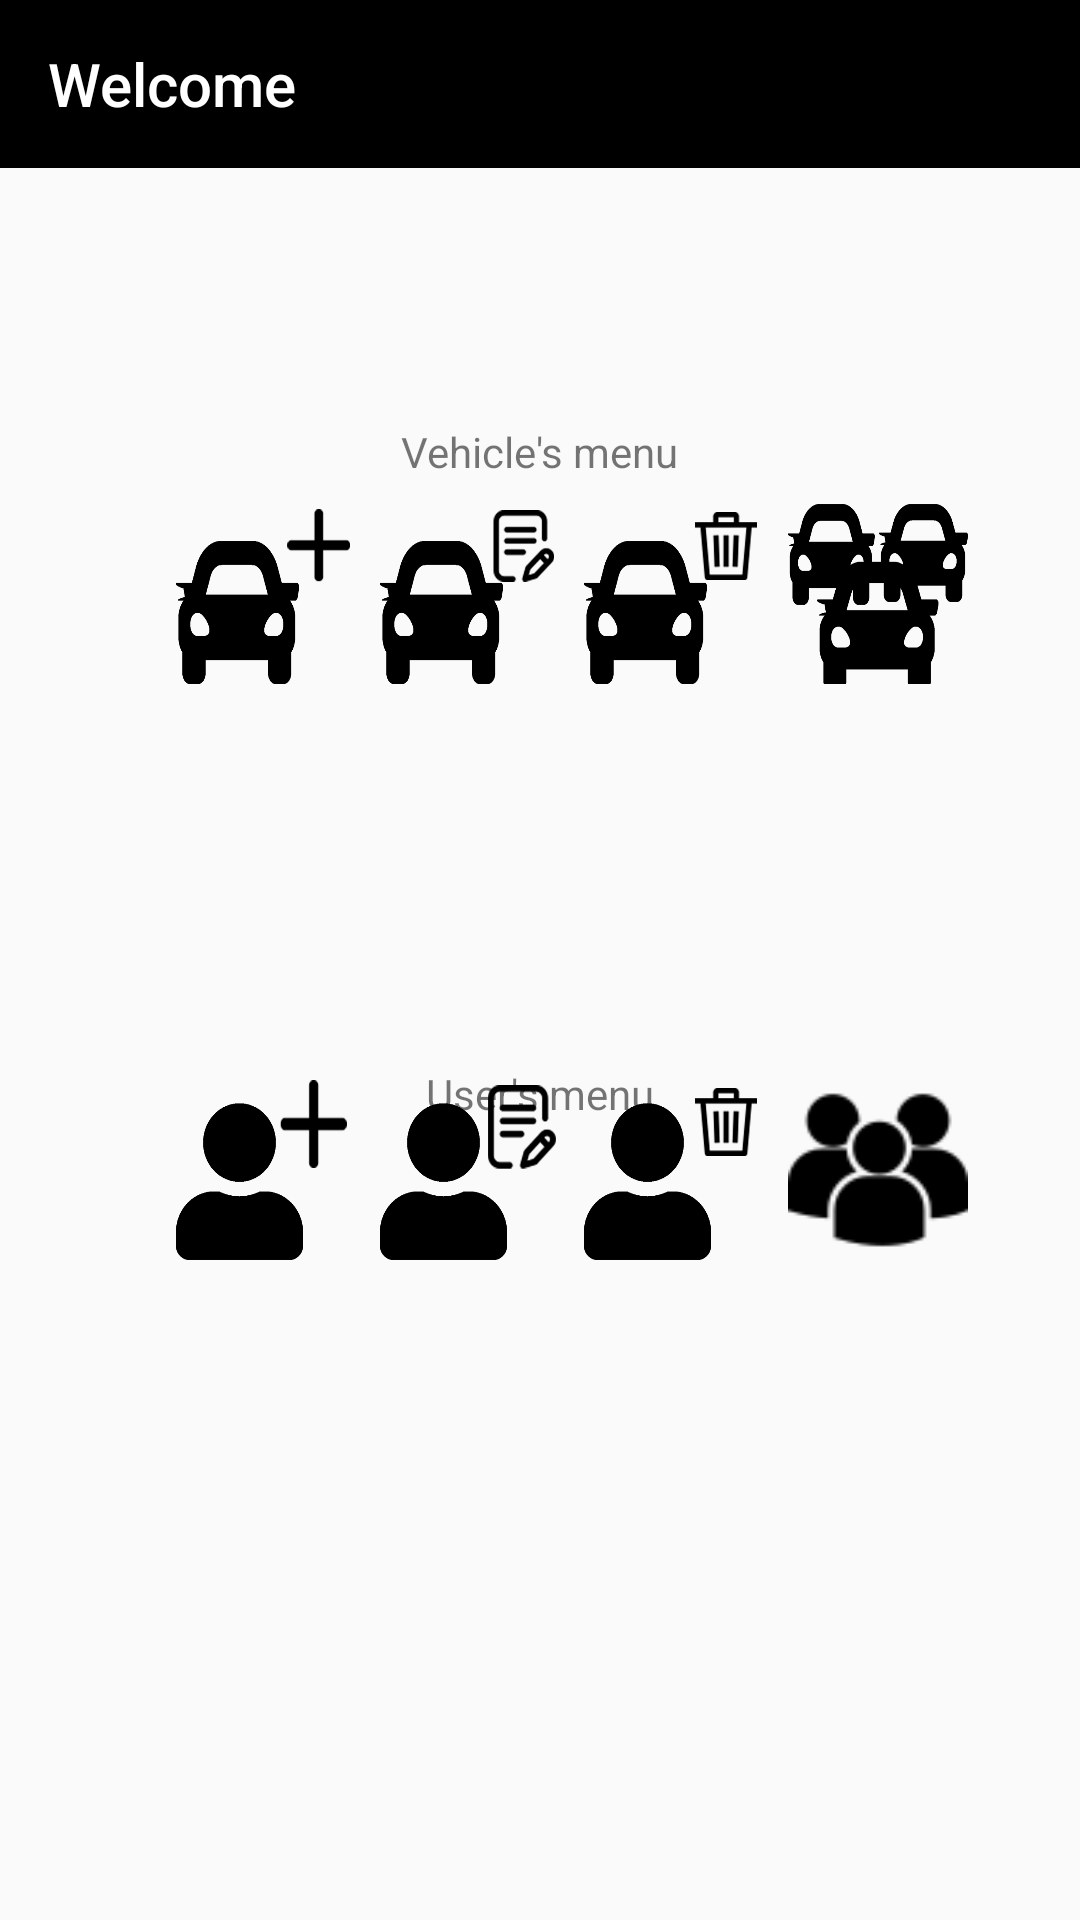

Where icons sit on this 1080×1920 app screen, as (x1, y1, x2, y2):
add car: (176, 509, 350, 684)
add user: (176, 1080, 347, 1260)
delete car: (584, 512, 757, 684)
delete user: (584, 1087, 757, 1260)
group of cars: (788, 504, 968, 684)
multiple users silhouette: (788, 1093, 968, 1247)
